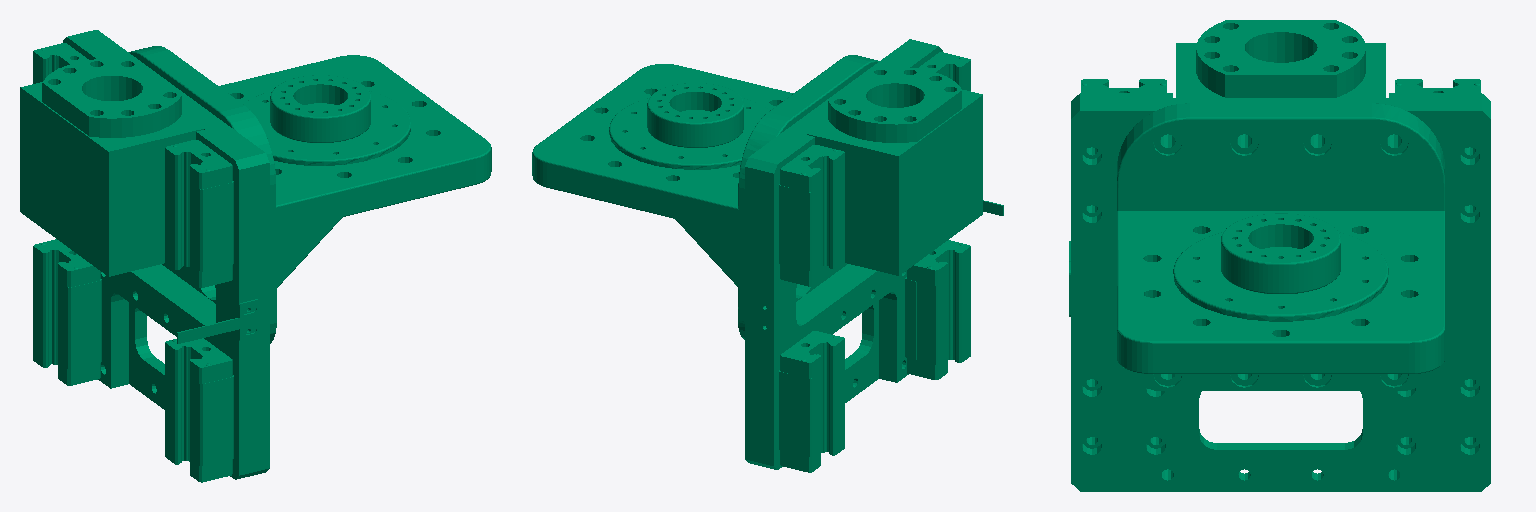
robot.urdf — robot:
<?xml version="1.0" ?>
<!-- =================================================================================== -->
<!-- |    This document was autogenerated by xacro from robot_arm.urdf.xacro           | -->
<!-- |    EDITING THIS FILE BY HAND IS NOT RECOMMENDED                                 | -->
<!-- =================================================================================== -->
<robot name="robot">
  <!-- for simulation -->
  <!--  <xacro:include filename="$(find franka_description)/robots/panda.gazebo.xacro"/>-->
  <!--  <xacro:include filename="panda.transmission.xacro"/>-->
  <!-- end for simulation -->
  <!-- bottom -->
  <link name="robot_bottom"/>
  <joint name="bottom_joint" type="fixed">
    <origin rpy="0 0 0" xyz="0 0 0.075"/>
    <parent link="robot_bottom"/>
    <child link="robot_link0"/>
    <axis xyz="0 0 1"/>
  </joint>
  <!-- link0 -->
  <link name="robot_link0">
    <visual>
      <geometry>
        <mesh filename="package://robot_description/meshes/visual/link0.dae"/>
      </geometry>
    </visual>
    <collision>
      <geometry>
        <mesh filename="package://robot_description/meshes/collision/link0.stl"/>
      </geometry>
    </collision>
    <inertial>
      <origin rpy="0 0 0" xyz="0 0 0"/>
      <mass value="165.7"/>
      <inertia ixx="0.3" ixy="0.0" ixz="0.0" iyy="0.3" iyz="0.0" izz="0.3"/>
    </inertial>
  </link>
  <!-- link1 -->
  <link name="robot_link1">
    <visual>
      <geometry>
        <mesh filename="package://robot_description/meshes/visual/link1.dae"/>
      </geometry>
    </visual>
    <collision>
      <geometry>
        <mesh filename="package://robot_description/meshes/collision/link1.stl"/>
      </geometry>
    </collision>
    <inertial>
      <origin rpy="0 0 0" xyz="0 0 0"/>
      <mass value="7.92"/>
      <inertia ixx="0.3" ixy="0.0" ixz="0.0" iyy="0.3" iyz="0.0" izz="0.3"/>
    </inertial>
  </link>
  <!-- lower, upper, speed limit?  -->
  <joint name="robot_joint1" type="prismatic">
    <safety_controller k_position="100.0" k_velocity="40.0" soft_lower_limit="0.0" soft_upper_limit="2.15"/>
    <origin rpy="0 0 0" xyz="0.157 0 0.324"/>
    <parent link="robot_link0"/>
    <child link="robot_link1"/>
    <axis xyz="0 0 1"/>
    <limit effort="1222" lower="0.0" upper="2.15" velocity="0.3"/>
  </joint>
  <!-- link2 -->
  <link name="robot_link2">
    <visual>
      <geometry>
        <mesh filename="package://robot_description/meshes/visual/link2.dae"/>
      </geometry>
    </visual>
    <collision>
      <geometry>
        <mesh filename="package://robot_description/meshes/collision/link2.stl"/>
      </geometry>
    </collision>
    <inertial>
      <origin rpy="0 0 0" xyz="0 0 0"/>
      <mass value="17.08"/>
      <inertia ixx="0.3" ixy="0.0" ixz="0.0" iyy="0.3" iyz="0.0" izz="0.3"/>
    </inertial>
  </link>
  <!-- lower, upper, speed limit?  -->
  <joint name="robot_joint2" type="revolute">
    <safety_controller k_position="100.0" k_velocity="40.0" soft_lower_limit="-1.9" soft_upper_limit="1.9"/>
    <origin rpy="0 0 0" xyz="0 0 0.094"/>
    <parent link="robot_link1"/>
    <child link="robot_link2"/>
    <axis xyz="0 0 1"/>
    <limit effort="160" lower="-1.9" upper="1.9" velocity="4.147"/>
  </joint>
  <!-- link3 -->
  <link name="robot_link3">
    <visual>
      <geometry>
        <mesh filename="package://robot_description/meshes/visual/link3.dae"/>
      </geometry>
    </visual>
    <collision>
      <geometry>
        <mesh filename="package://robot_description/meshes/collision/link3.stl"/>
      </geometry>
    </collision>
    <inertial>
      <origin rpy="0 0 0" xyz="0 0 0"/>
      <mass value="7.08"/>
      <inertia ixx="0.3" ixy="0.0" ixz="0.0" iyy="0.3" iyz="0.0" izz="0.3"/>
    </inertial>
    <!-- end for simulation -->
  </link>
  <!-- lower, upper, speed limit?  -->
  <joint name="robot_joint3" type="revolute">
    <safety_controller k_position="100.0" k_velocity="40.0" soft_lower_limit="-2.6" soft_upper_limit="2.6"/>
    <origin rpy="0 0 0" xyz="0.500 0 0.1833"/>
    <parent link="robot_link2"/>
    <child link="robot_link3"/>
    <axis xyz="0 0 1"/>
    <limit effort="84" lower="-2.6" upper="2.6" velocity="3.665"/>
  </joint>
  <!-- link4 -->
  <link name="robot_link4">
    <visual>
      <geometry>
        <mesh filename="package://robot_description/meshes/visual/link4.dae"/>
      </geometry>
    </visual>
    <collision>
      <geometry>
        <mesh filename="package://robot_description/meshes/collision/link4.stl"/>
      </geometry>
    </collision>
    <!-- mass? -->
    <inertial>
      <origin rpy="0 0 0" xyz="0 0 0"/>
      <mass value="8.28"/>
      <inertia ixx="0.3" ixy="0.0" ixz="0.0" iyy="0.3" iyz="0.0" izz="0.3"/>
    </inertial>
    <!-- end for simulation -->
  </link>
  <!-- lower, upper, speed limit?  -->
  <joint name="robot_joint4" type="revolute">
    <safety_controller k_position="100.0" k_velocity="40.0" soft_lower_limit="-2" soft_upper_limit="2"/>
    <origin rpy="0 0 1.5707963267948966" xyz="0.500 0 -0.187"/>
    <parent link="robot_link3"/>
    <child link="robot_link4"/>
    <axis xyz="0 0 1"/>
    <limit effort="30" lower="-2" upper="2" velocity="4.974"/>
  </joint>
  <!-- link5 -->
  <link name="robot_link5">
    <visual>
      <geometry>
        <mesh filename="package://robot_description/meshes/visual/link5.dae"/>
      </geometry>
    </visual>
    <collision>
      <geometry>
        <mesh filename="package://robot_description/meshes/collision/link5.stl"/>
      </geometry>
    </collision>
    <!-- mass? -->
    <inertial>
      <origin rpy="0 0 0" xyz="0 0 0"/>
      <mass value="5.4"/>
      <inertia ixx="0.3" ixy="0.0" ixz="0.0" iyy="0.3" iyz="0.0" izz="0.3"/>
    </inertial>
    <!-- end for simulation -->
  </link>
  <!-- lower, upper, speed limit?  -->
  <joint name="robot_joint5" type="revolute">
    <safety_controller k_position="100.0" k_velocity="40.0" soft_lower_limit="-1.60" soft_upper_limit="1.85"/>
    <origin rpy="1.5707963267948966 0 0" xyz="0 0 0"/>
    <parent link="robot_link4"/>
    <child link="robot_link5"/>
    <axis xyz="0 0 1"/>
    <limit effort="528" lower="-1.60" upper="1.85" velocity="1.623"/>
  </joint>
  <!-- link6 -->
  <link name="robot_link6"/>
  <!-- lower, upper, speed limit?  -->
  <joint name="robot_joint6" type="revolute">
    <safety_controller k_position="100.0" k_velocity="40.0" soft_lower_limit="-2" soft_upper_limit="2"/>
    <origin rpy="1.5707963267948966 -1.5707963267948966 0" xyz="0.0 -0.120 0"/>
    <parent link="robot_link5"/>
    <child link="robot_link6"/>
    <axis xyz="0 0 1"/>
    <limit effort="84" lower="-2" upper="2" velocity="3.665"/>
  </joint>
  <!-- gripper -->
  <link name="robot_gripper">
    <visual>
      <geometry>
        <mesh filename="package://robot_description/meshes/visual/gripper.dae"/>
      </geometry>
    </visual>
    <collision>
      <geometry>
        <mesh filename="package://robot_description/meshes/collision/gripper.stl"/>
      </geometry>
    </collision>
    <!-- mass? -->
    <inertial>
      <origin rpy="0 0 0" xyz="0 0 0"/>
      <mass value="2.74"/>
      <inertia ixx="0.3" ixy="0.0" ixz="0.0" iyy="0.3" iyz="0.0" izz="0.3"/>
    </inertial>
  </link>
  <joint name="robot_joint7" type="fixed">
    <origin rpy="0 0 0" xyz="0.100 0.0 0.047"/>
    <parent link="robot_link6"/>
    <child link="robot_gripper"/>
    <axis xyz="0 0 1"/>
  </joint>
  <!-- grasping frame -->
  <link name="tcp"/>
  <joint name="tcp_joint" type="fixed">
    <origin rpy="0 0 0" xyz="0 0 0.06887"/>
    <parent link="robot_gripper"/>
    <child link="tcp"/>
    <axis xyz="0 0 1"/>
  </joint>
  <!--  <xacro:panda_gazebo robot_name="$(arg robot_name)" />-->
  <!--  <xacro:panda_transmission robot_name="$(arg robot_name)" load_hand="false" />-->
  <!-- end for simulation -->
</robot>

--- What the picture shows (computed from the rendered views, not written in the file) ---
Views: 3 orthographic renders of the robot side by side, from view 1: azimuth 30°, elevation 25°; view 2: azimuth 150°, elevation 25°; view 3: azimuth 270°, elevation 25°.
Robot: robot — 10 links, 9 joints (5 revolute, 1 prismatic, 3 fixed); root link robot_bottom; default pose: every joint at zero.
Visible links, largest first — view 1: robot_link1; view 2: robot_link1; view 3: robot_link1.
Boxes of the visible links, x1,y1,x2,y2 form: robot_link1: (20,30,491,482); robot_link1: (532,39,1003,472); robot_link1: (1069,20,1490,491).
Size in the robot's own frame: 0.278 by 0.2312 by 0.244 metres.
1 mesh visuals loaded from 7 distinct referenced files (1 Collada DAE); not drawn: 6 (reference not matched to a file when rendering).